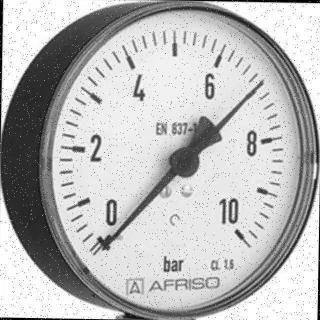gauge: (34, 0, 320, 320), (168, 144, 202, 178), (93, 220, 125, 256), (222, 214, 252, 249), (254, 76, 268, 90), (97, 242, 109, 255)
